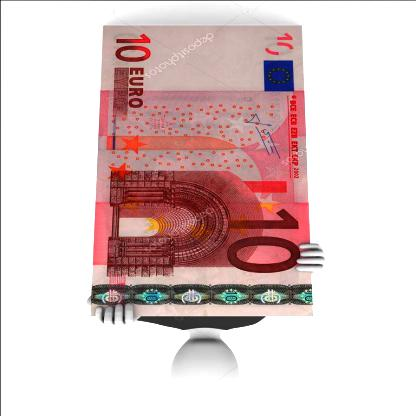euro_banknote: (57, 60, 349, 284)
